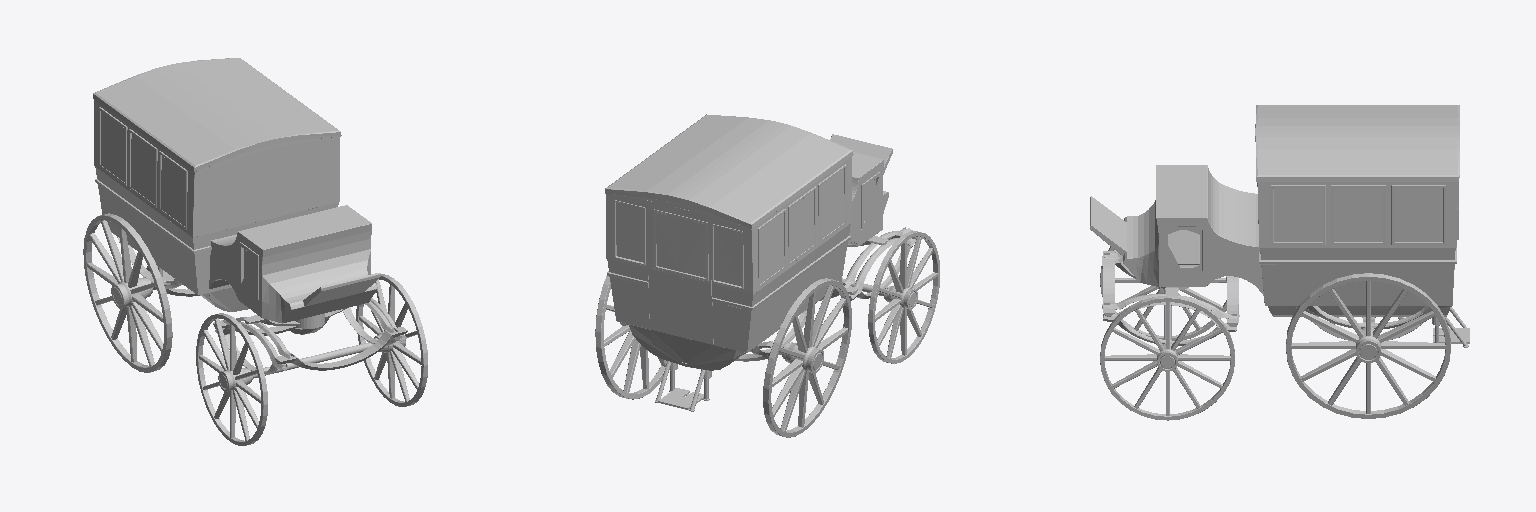
Rendered from Carruaje.obj.
3 views of the same model, side by side, from view 1: azimuth 30°, elevation 25°; view 2: azimuth 150°, elevation 25°; view 3: azimuth 270°, elevation 25° (orthographic).
Parts seen in each view (by area): view 1: Cube.002; view 2: Cube.002; view 3: Cube.002.
Boxes of the visible parts, box(x1,y1,x2,y2) form: Cube.002: box(83, 58, 427, 445); Cube.002: box(595, 114, 939, 437); Cube.002: box(1090, 105, 1469, 420).
Size of the model in its own units: 1.01 by 1.27 by 1.75.